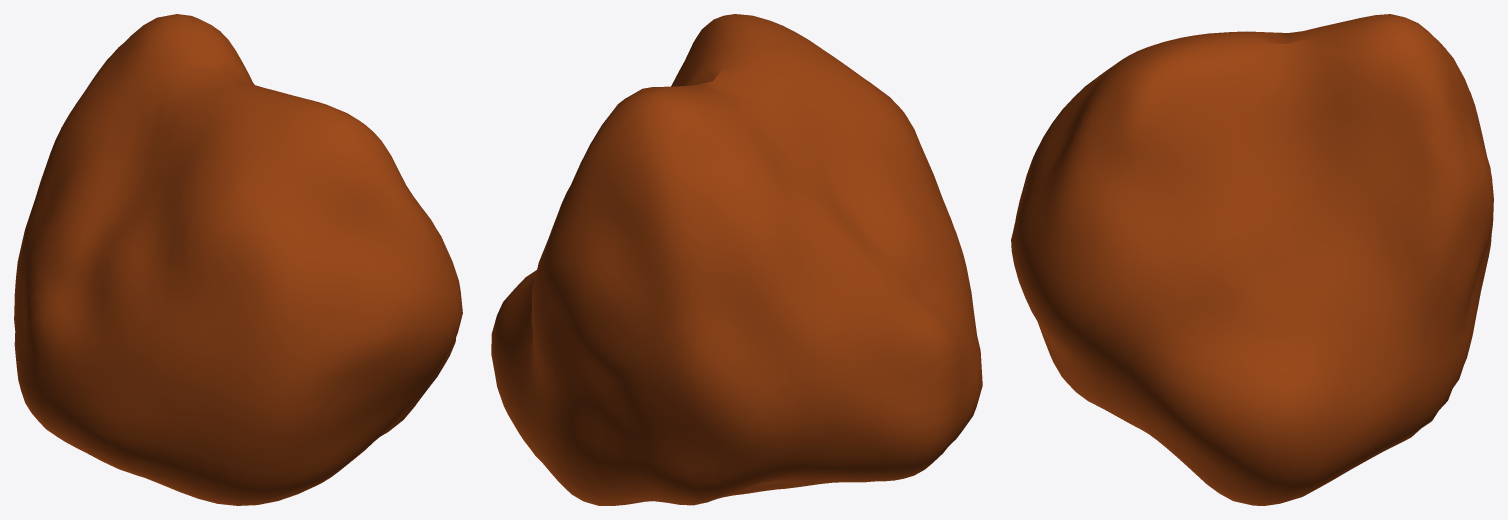
Rendered from stone2.fbx.
3 renders of one model, left to right at view 1: azimuth 30°, elevation 25°; view 2: azimuth 150°, elevation 25°; view 3: azimuth 270°, elevation 25°, orthographic. The views are drawn at different scales.
Visible parts, largest first — view 1: rock.002; view 2: rock.002; view 3: rock.002.
Boxes of the visible parts, bbox=[...] form: rock.002: bbox=[14, 14, 462, 505]; rock.002: bbox=[491, 14, 982, 505]; rock.002: bbox=[1011, 14, 1493, 505].
Size of the model in its own units: 72.54 by 68.89 by 71.36.
